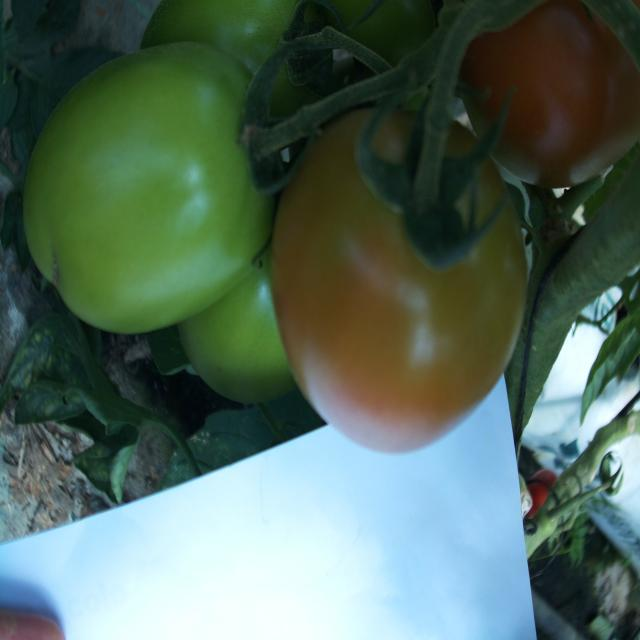sari: (274, 103, 544, 489)
